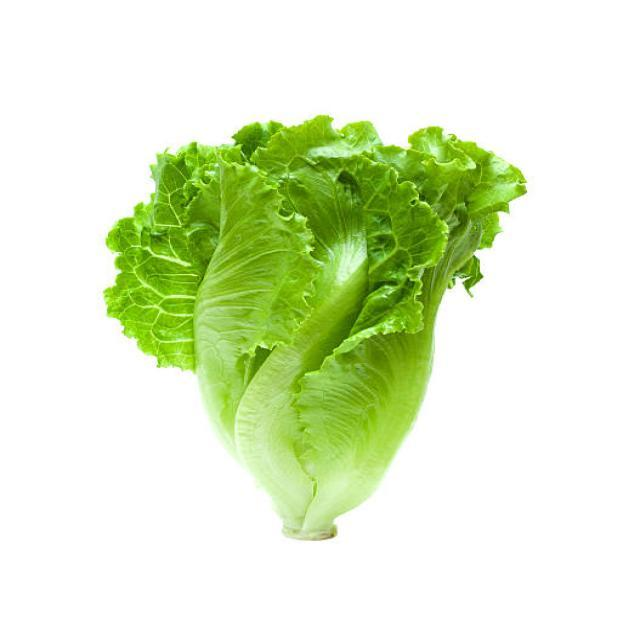Lettuce-Ready-to-Harvest: (95, 111, 530, 546)
